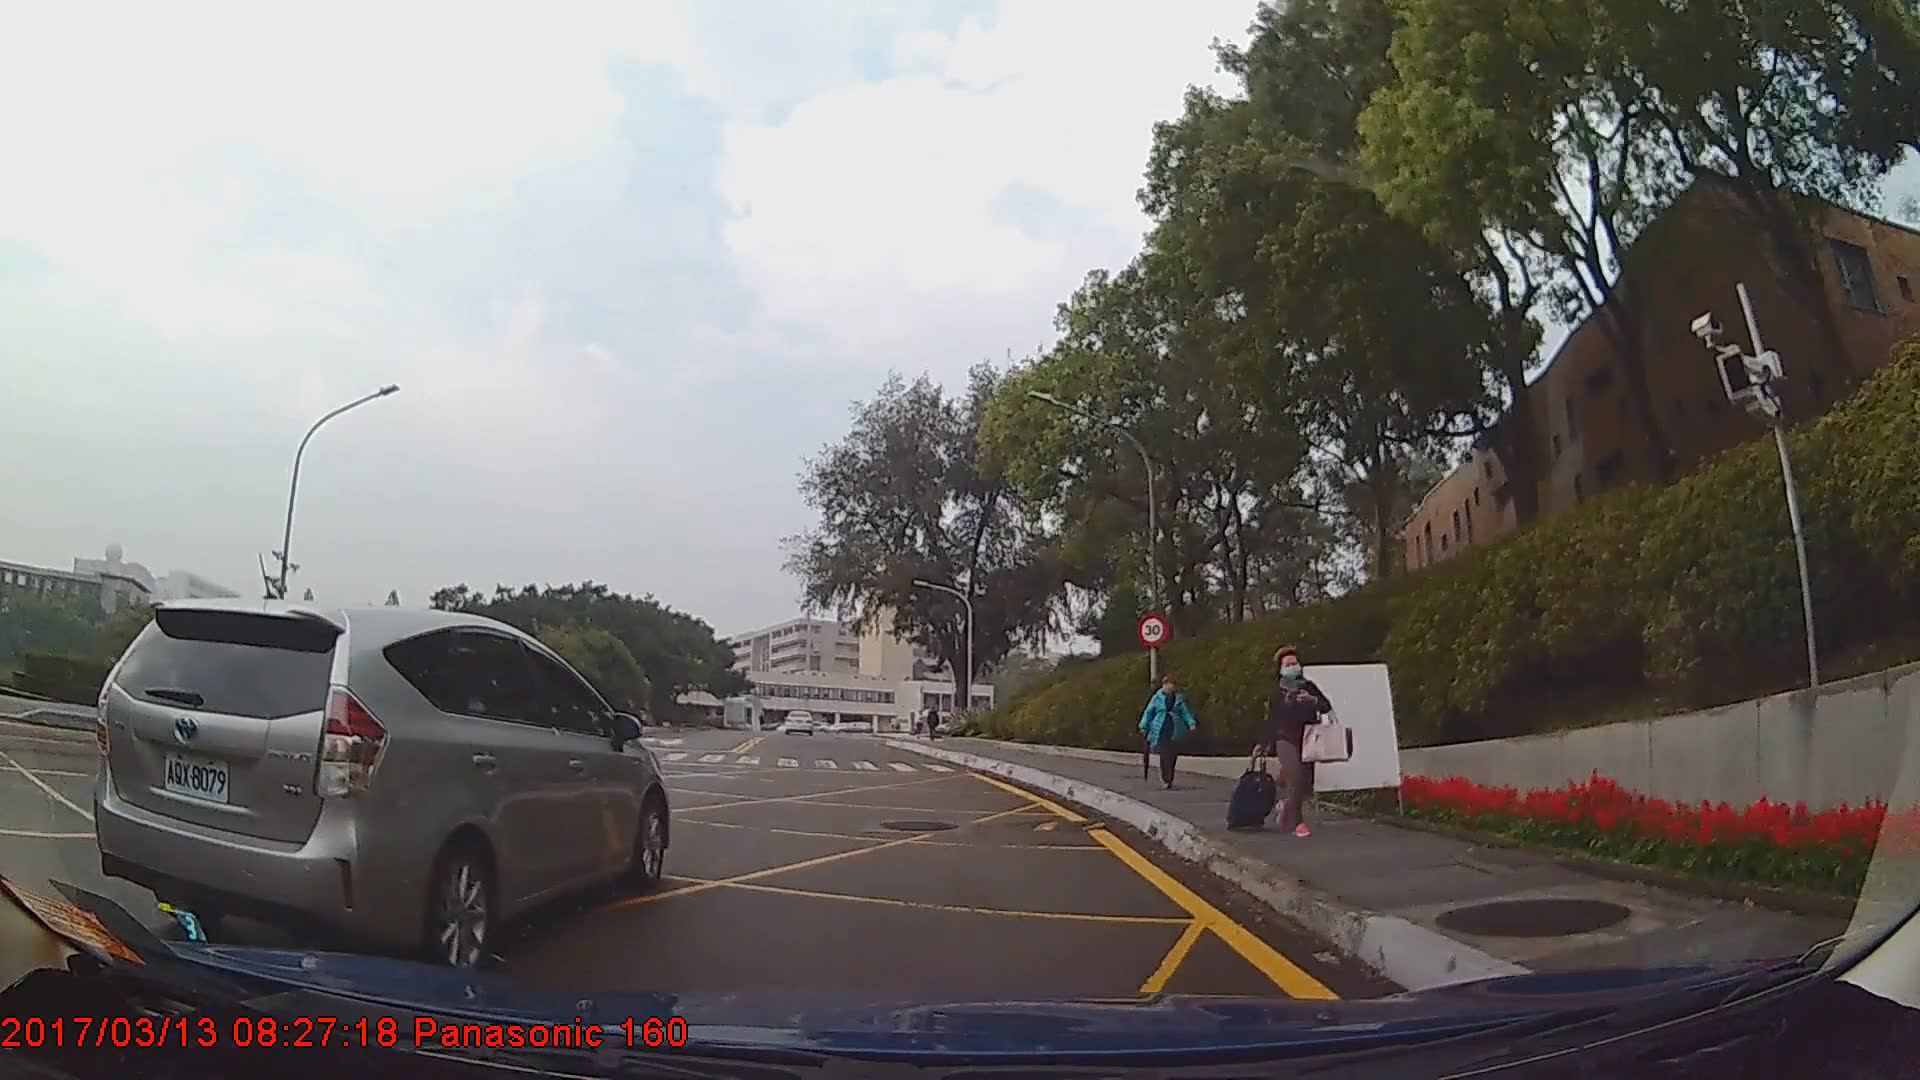pedestrian: (1225, 643, 1342, 831), (1138, 675, 1198, 792)
vehicle: (94, 595, 671, 969), (782, 706, 815, 734)
